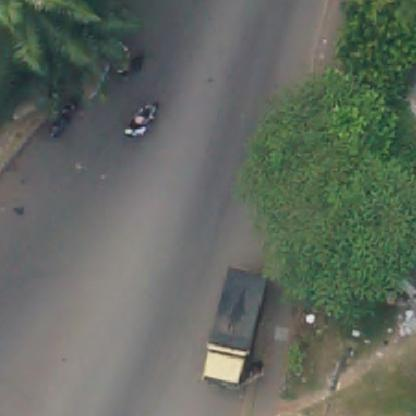Car: (196, 270, 270, 393)
Motorcycle: (126, 101, 164, 138), (43, 100, 76, 138), (112, 44, 144, 80), (124, 98, 145, 140)
